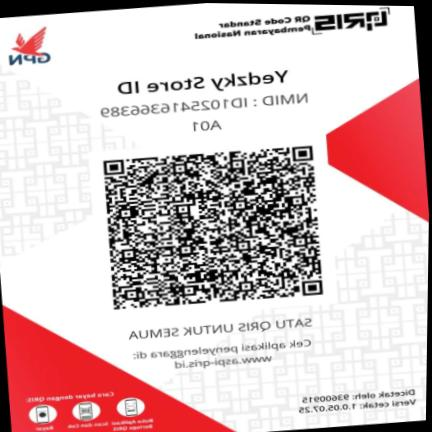Barcode_Asli: (84, 129, 341, 320)
